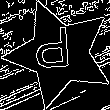P_S: (38, 27, 81, 81)
